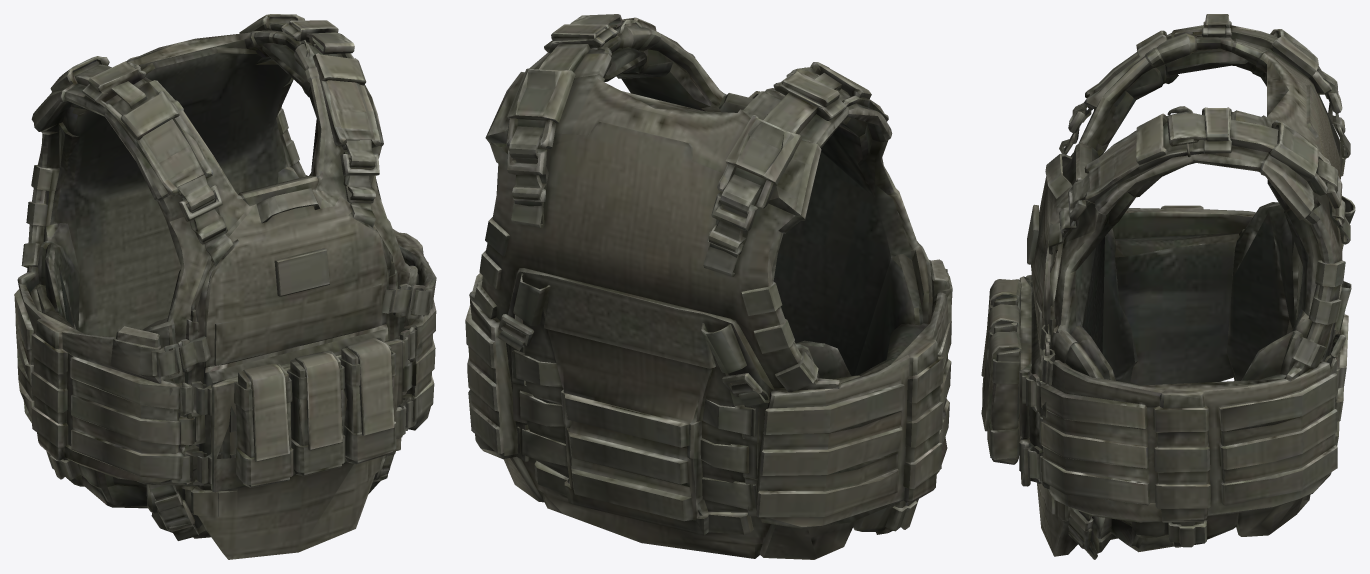
File: vest_1.opt.glb
The picture shows the model from 3 angles, left to right: view 1: azimuth 30°, elevation 25°; view 2: azimuth 150°, elevation 25°; view 3: azimuth 270°, elevation 25°; orthographic projection. The views are drawn at different scales.
Parts seen in each view (by area): view 1: armor_0; view 2: armor_0; view 3: armor_0.
Boxes of the visible parts, box(x1,y1,x2,y2) form: armor_0: box(14, 14, 436, 559); armor_0: box(465, 14, 952, 559); armor_0: box(981, 14, 1355, 559).
Bounding box in the file's own units: 0.874 × 0.9966 × 0.7284.
1 material, 1 textured.
